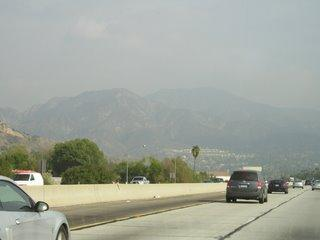car: (1, 174, 74, 240), (226, 168, 269, 204), (7, 172, 45, 193), (266, 179, 289, 194), (130, 175, 150, 187), (292, 180, 304, 189), (311, 179, 320, 189)
